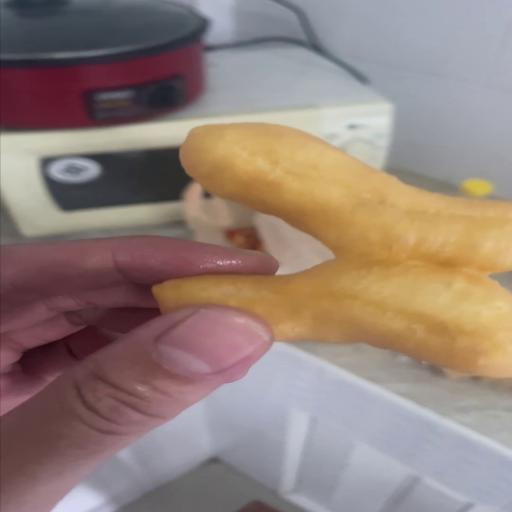street_golden_good: (155, 124, 512, 381)
